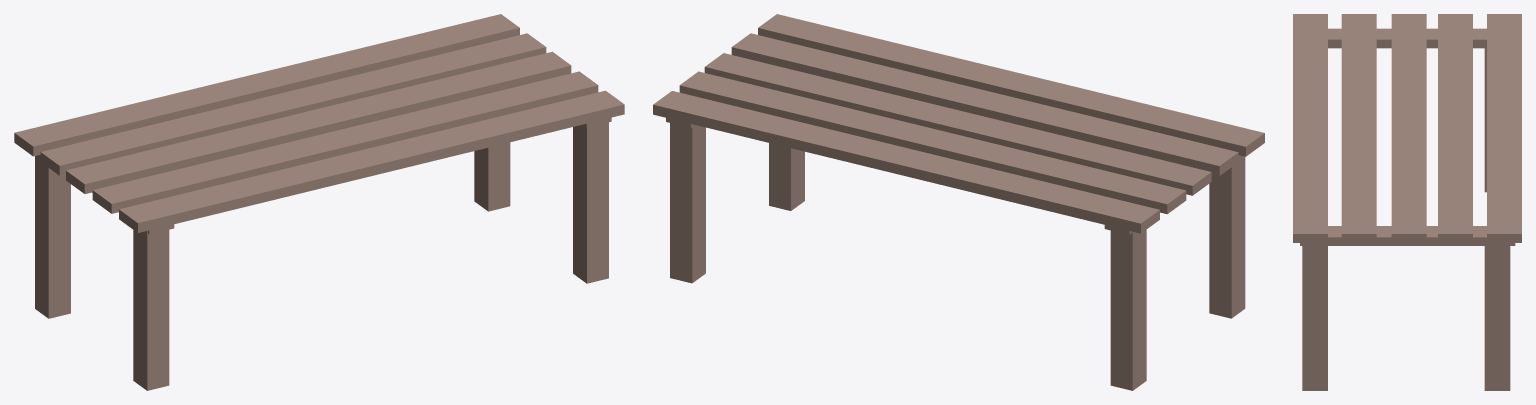
The model's file is Park_tafel.fbx.
3 views of the same model, side by side, from view 1: azimuth 30°, elevation 25°; view 2: azimuth 150°, elevation 25°; view 3: azimuth 270°, elevation 25° (orthographic). The views are drawn at different scales.
Parts seen in each view (by area): view 1: pCube13; view 2: pCube13; view 3: pCube13.
Part boxes in pixels (x1,y1,x2,y2): pCube13: (14, 14, 624, 390); pCube13: (653, 14, 1264, 390); pCube13: (1293, 14, 1521, 390).
Bounding box in the file's own units: 14.84 × 5.1 × 6.53.
